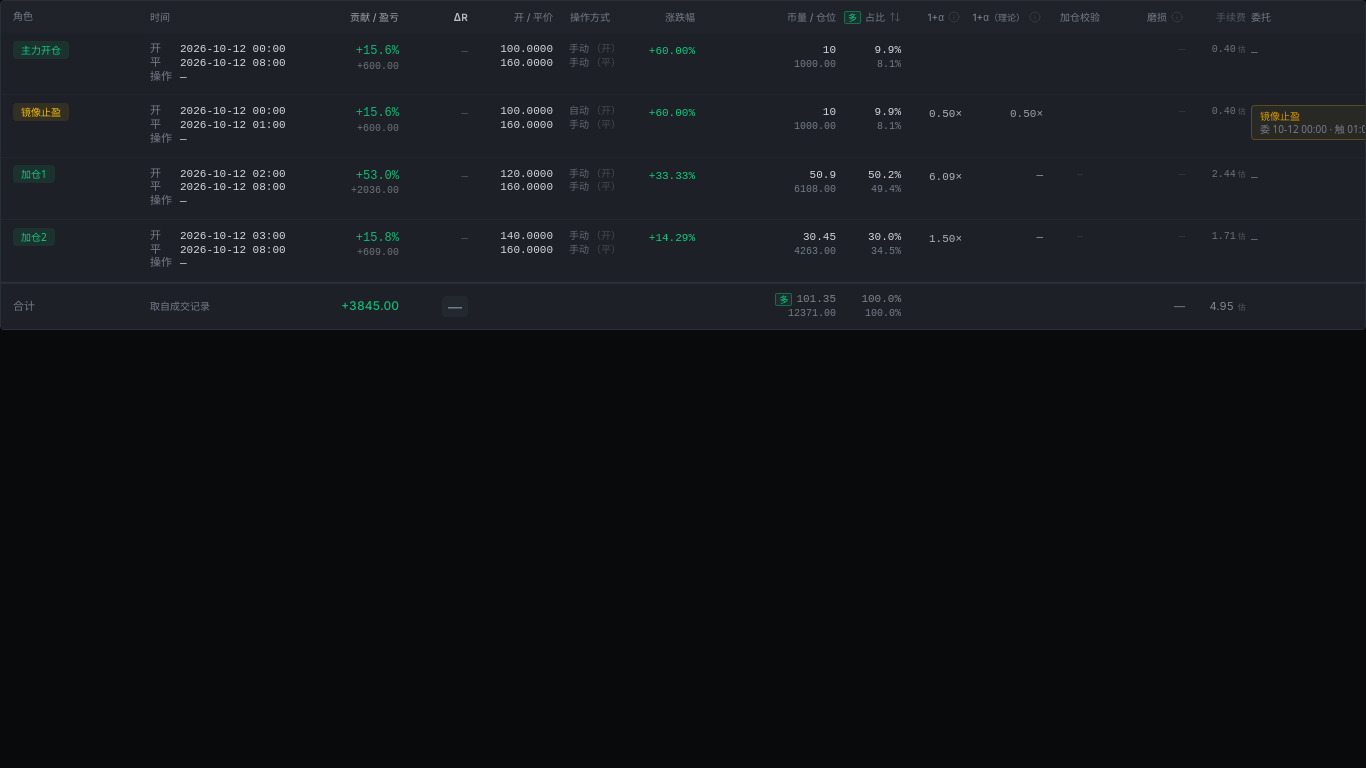
Test: Legs per-add geometric factor › mirror actual and theoretical cells open the first-cut process based on main plus mirror coins
The image size is (1366, 768).
Click the 1st button "0.50×" at [934, 115], box [906,105,962,124]
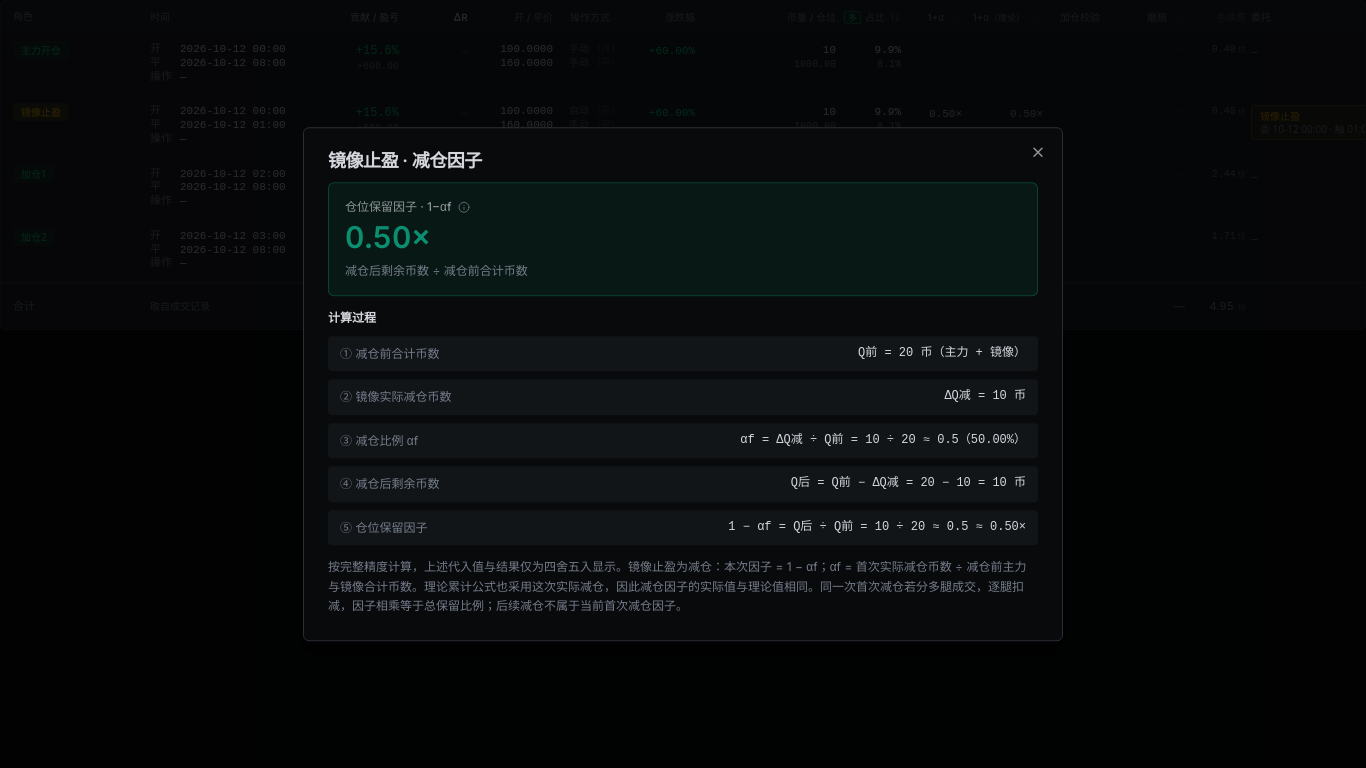
Expected: the dialog with test id "leg-geometric-factor-detail-dialog" shows "镜像止盈 · 减仓因子", [328,150,482,171]
Expected: the dialog with test id "leg-geometric-factor-detail-dialog" shows "Q前 = 20 币（主力 + 镜像）", [858,346,1026,360]
Expected: the dialog with test id "leg-geometric-factor-detail-dialog" shows "αf = ΔQ减 ÷ Q前 = 10 ÷ 20 ≈ 0.5（50.00%）", [740,433,1026,447]
Click the button named "关闭" at [1038, 152], box [1030,144,1046,160]
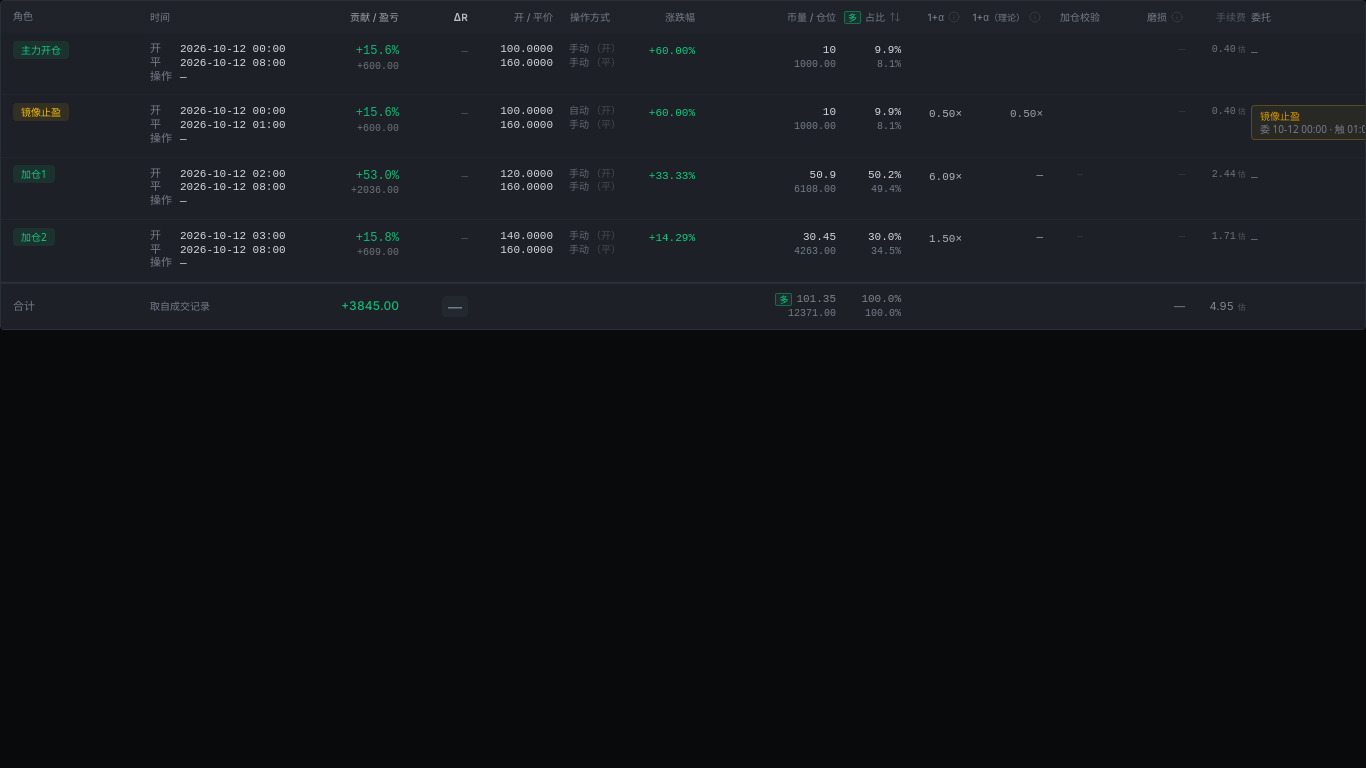
Click the 2nd button "0.50×" at [1005, 115], box [967,105,1043,124]
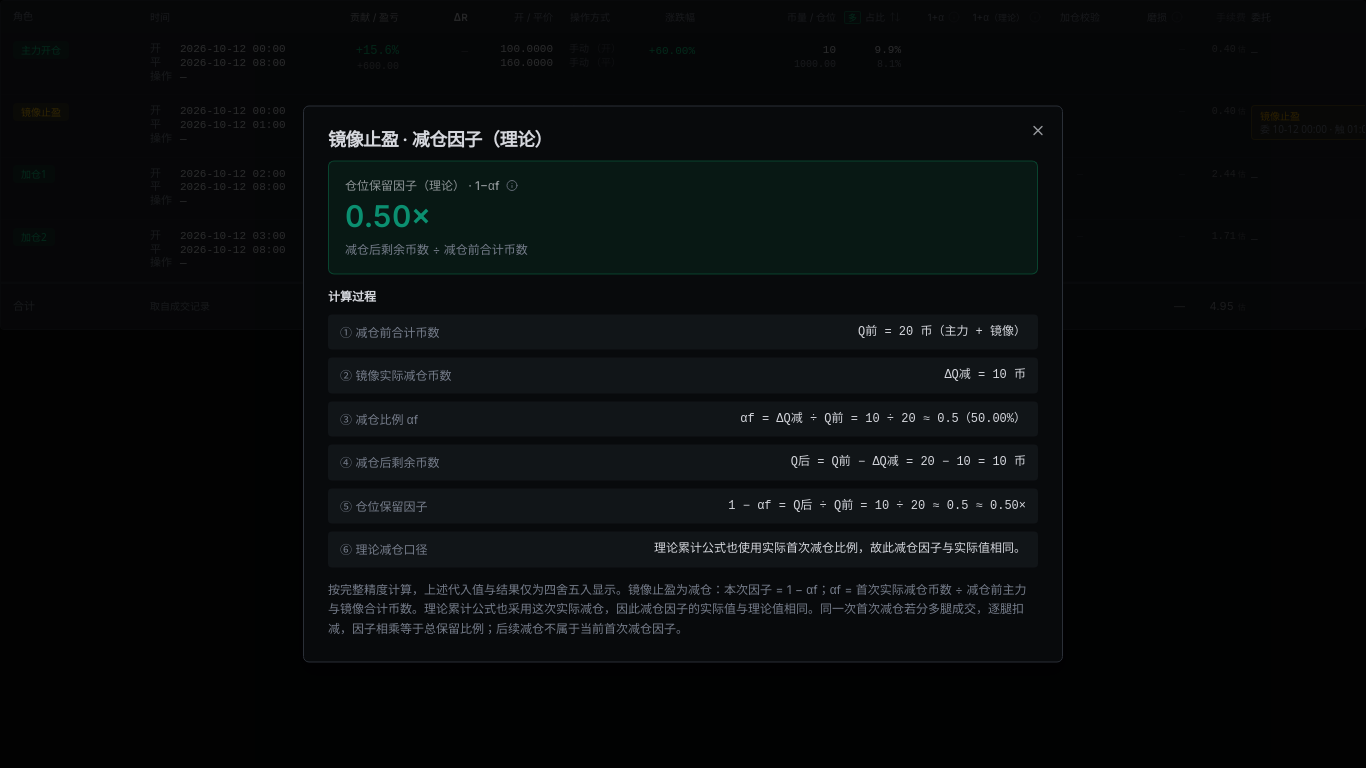
Expected: the dialog with test id "leg-geometric-factor-detail-dialog" shows "镜像止盈 · 减仓因子（理论）", [303,106,1063,662]
Expected: the dialog with test id "leg-geometric-factor-detail-dialog" shows "理论累计公式也使用实际首次减仓比例，故此减仓因子与实际值相同", [654,542,1026,556]
